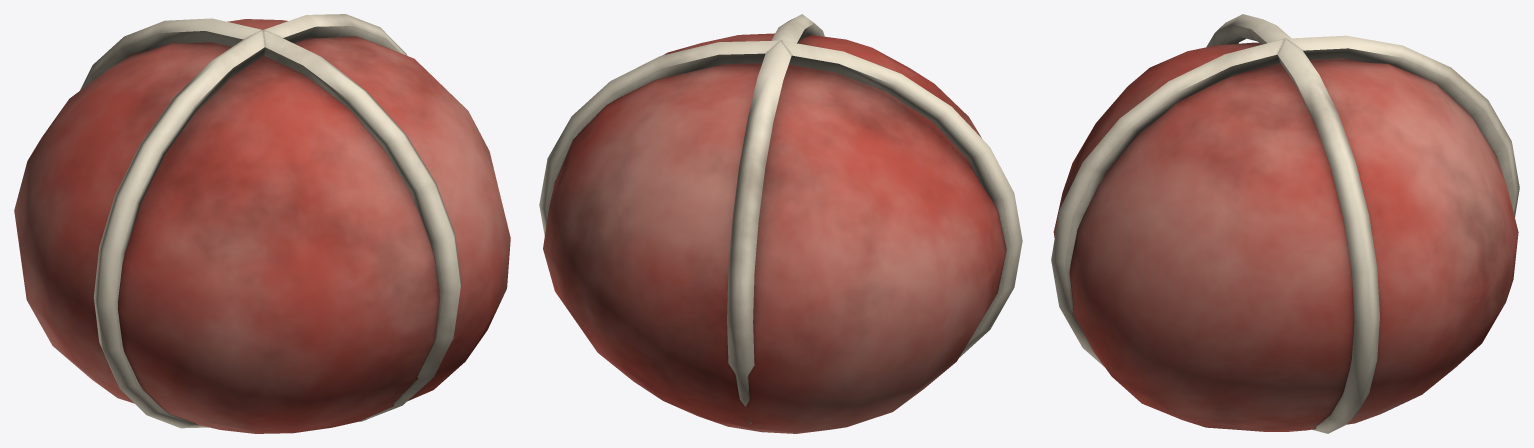
The model's file is kid_ball.fbx.
3 renders of one model, left to right at view 1: azimuth 30°, elevation 25°; view 2: azimuth 150°, elevation 25°; view 3: azimuth 270°, elevation 25°, orthographic. The views are drawn at different scales.
Visible parts, largest first — view 1: Body; view 2: Body; view 3: Body.
Boxes of the visible parts, x1,y1,x2,y2 form: Body: [14, 14, 510, 433]; Body: [539, 14, 1022, 433]; Body: [1051, 14, 1519, 433].
Size of the model in its own units: 0.8416 by 0.7278 by 0.8269.
Materials: 1 (1 with a texture image).
